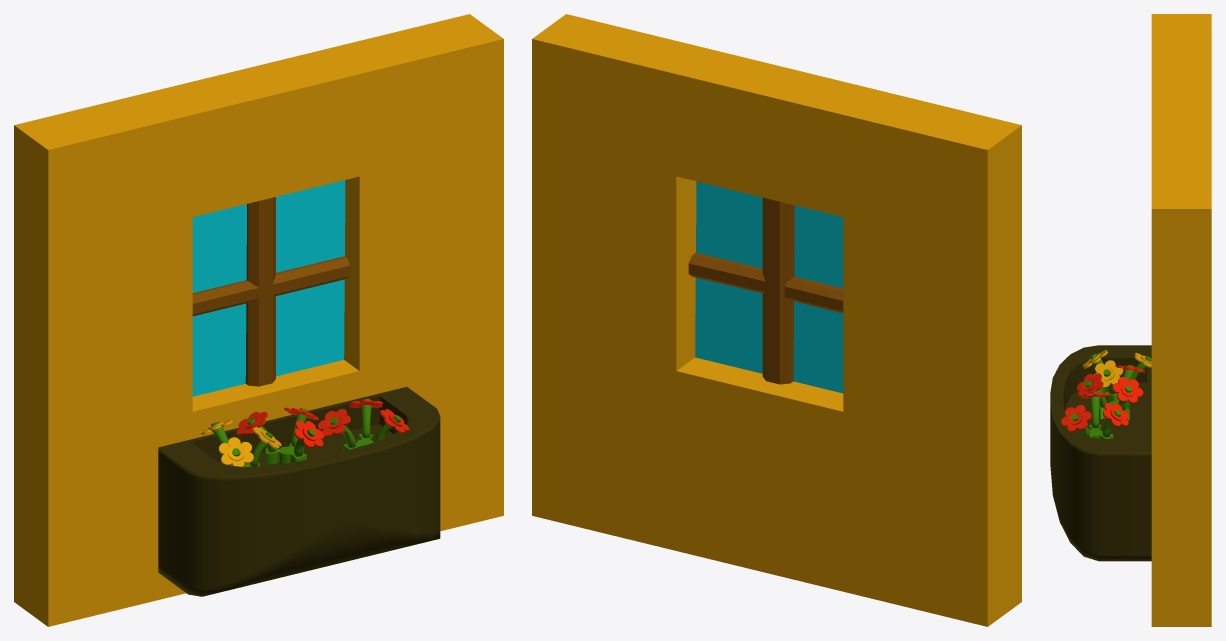
File: Wall Window Flowers.fbx
3 views of the same model, side by side, from view 1: azimuth 30°, elevation 25°; view 2: azimuth 150°, elevation 25°; view 3: azimuth 270°, elevation 25° (orthographic). The views are drawn at different scales.
Visible parts, largest first — view 1: Cube.009, Cube.004, Plane, Cube.010, Cylinder.009, Cylinder.012, Cylinder.007, Cylinder.008, Cylinder.006; view 2: Cube.009, Plane, Cube.010; view 3: Cube.009, Cube.004, Cylinder.007, Cylinder.009, Cylinder.012, Cylinder.006, Cylinder.008, Cylinder.011.
Part boxes in pixels (bbox=[...]): Cube.009: bbox=[14, 14, 503, 626]; Cube.004: bbox=[158, 387, 440, 596]; Plane: bbox=[192, 180, 345, 396]; Cube.010: bbox=[192, 197, 350, 386]; Cylinder.009: bbox=[236, 407, 323, 447]; Cylinder.012: bbox=[201, 419, 281, 466]; Cylinder.007: bbox=[318, 399, 409, 437]; Cylinder.008: bbox=[247, 408, 315, 465]; Cylinder.006: bbox=[329, 398, 401, 450]; Cube.009: bbox=[532, 14, 1021, 626]; Plane: bbox=[695, 181, 843, 393]; Cube.010: bbox=[688, 197, 843, 384]; Cube.009: bbox=[1151, 14, 1211, 626]; Cube.004: bbox=[1050, 345, 1151, 561]; Cylinder.007: bbox=[1061, 392, 1129, 431]; Cylinder.009: bbox=[1077, 365, 1145, 403]; Cylinder.012: bbox=[1082, 349, 1151, 387]; Cylinder.006: bbox=[1070, 392, 1120, 438]; Cylinder.008: bbox=[1084, 364, 1134, 420]; Cylinder.011: bbox=[1089, 353, 1151, 402].
Bounding box in the file's own units: 200 × 200 × 69.87.
